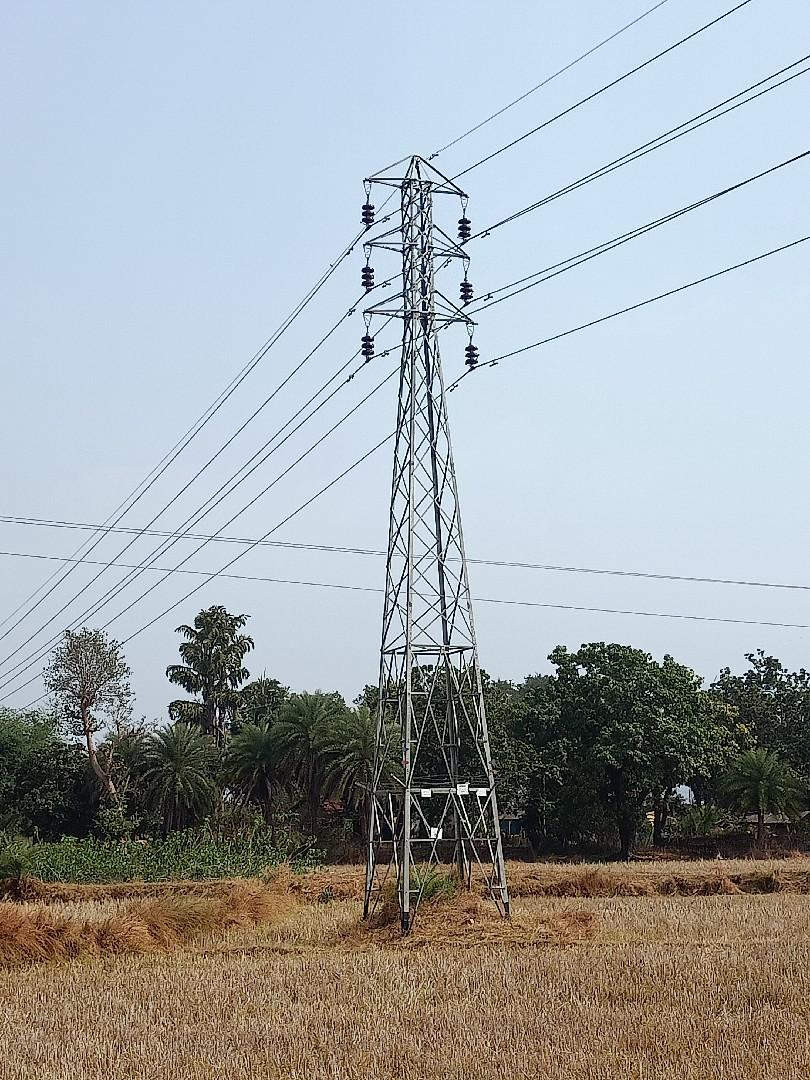GSM Antenna: (340, 148, 525, 882)
